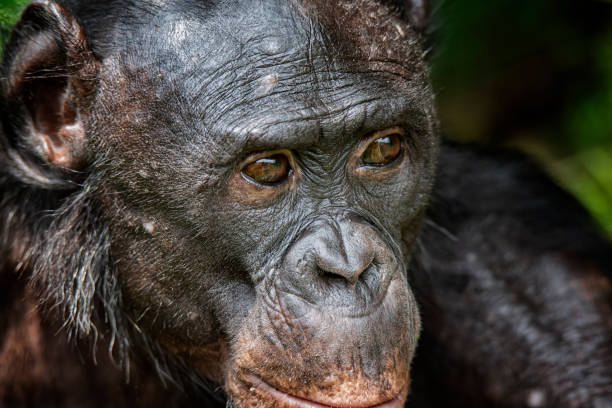chimpanzee: (4, 1, 454, 408)
